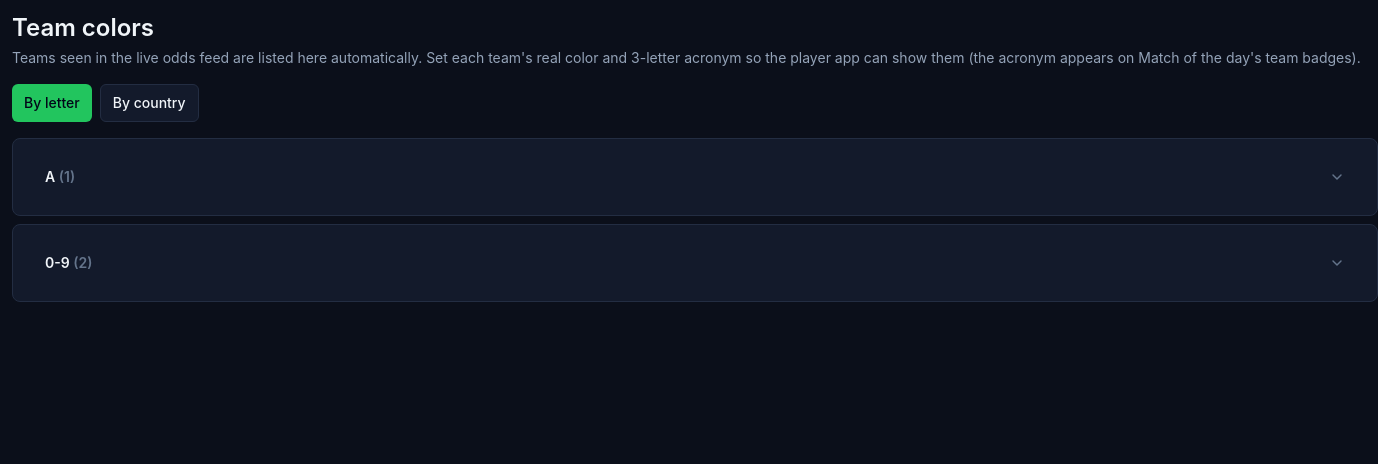
Test: TeamColorsPage › buckets every digit-led team name into one combined "0-9" group, sorted after Z
Step 1. Click the button "0-9 (2)" → (57, 262), box [29,241,1361,285]
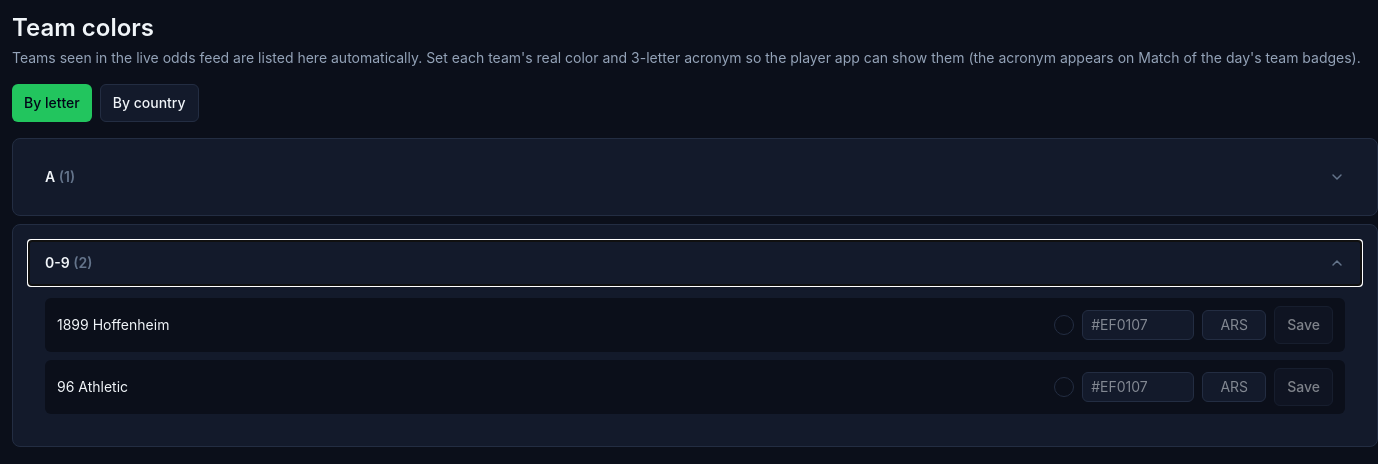
Expected: the text "1899 Hoffenheim" is shown, [57,315,169,335]
Expected: the text "96 Athletic" is shown, [57,377,128,397]
